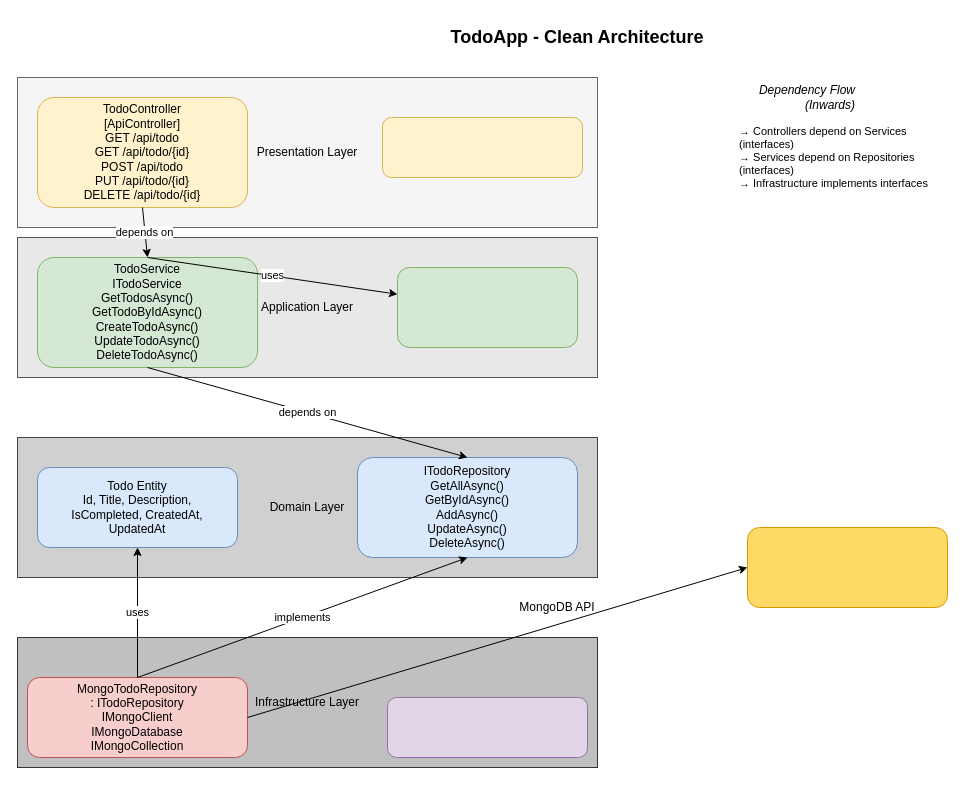
The diagram is 965 pixels wide and 785 high, and some of its shapes have lost their labels. Here are the shapes that lost their labels. From the top down, the centre of each, then its label:
(482,147): HomeController MVC Views
(487,307): DTOs TodoDto CreateTodoDto UpdateTodoDto
(847,567): Azure Cosmos DB
(487,727): Program.cs Dependency Injection Middleware Config
